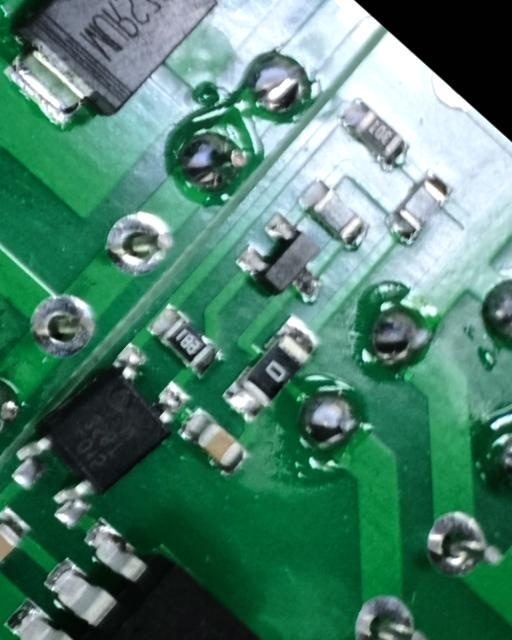chip-capacitor: (173, 402, 256, 483)
chip-resistor: (216, 310, 328, 426), (292, 175, 380, 259), (142, 298, 230, 382), (332, 93, 418, 175), (381, 167, 460, 249)
diode: (0, 0, 234, 155)
ic: (0, 327, 201, 537)
transistor: (230, 208, 344, 320)
